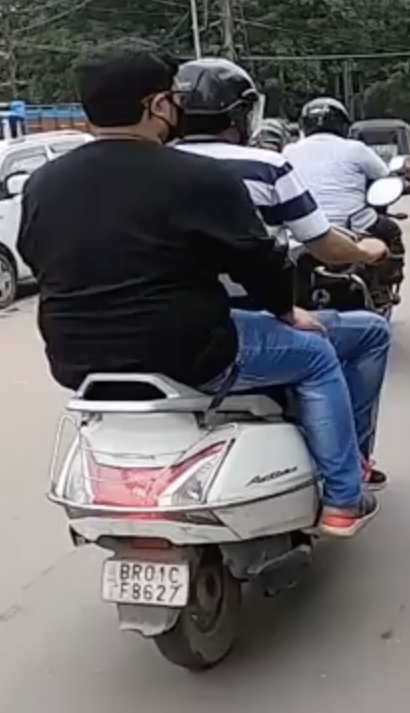motor: (28, 240, 385, 678)
no helmet: (78, 37, 178, 141)
number: (101, 556, 187, 608)
with helmet: (172, 54, 263, 144), (299, 96, 352, 140)
